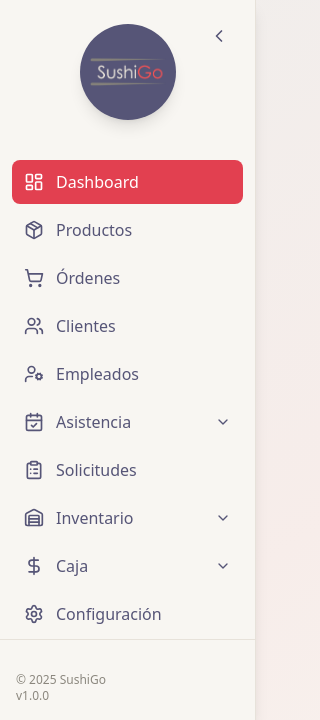
Test: Sidebar — submenu toggle › expands Caja submenu and shows sub-items
Click the button "Caja" at (128, 566), box [12, 544, 243, 588]
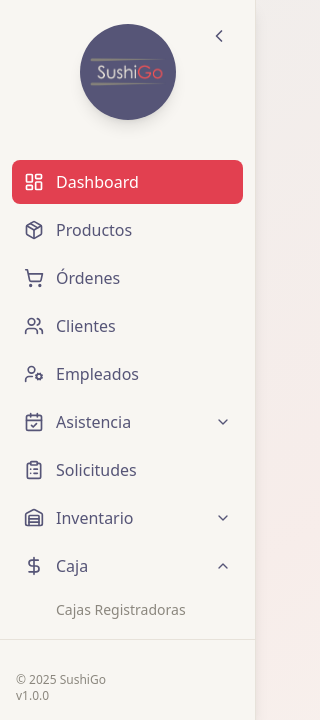
Result: the link "Cajas Registradoras" is shown at [56, 600, 186, 619]
